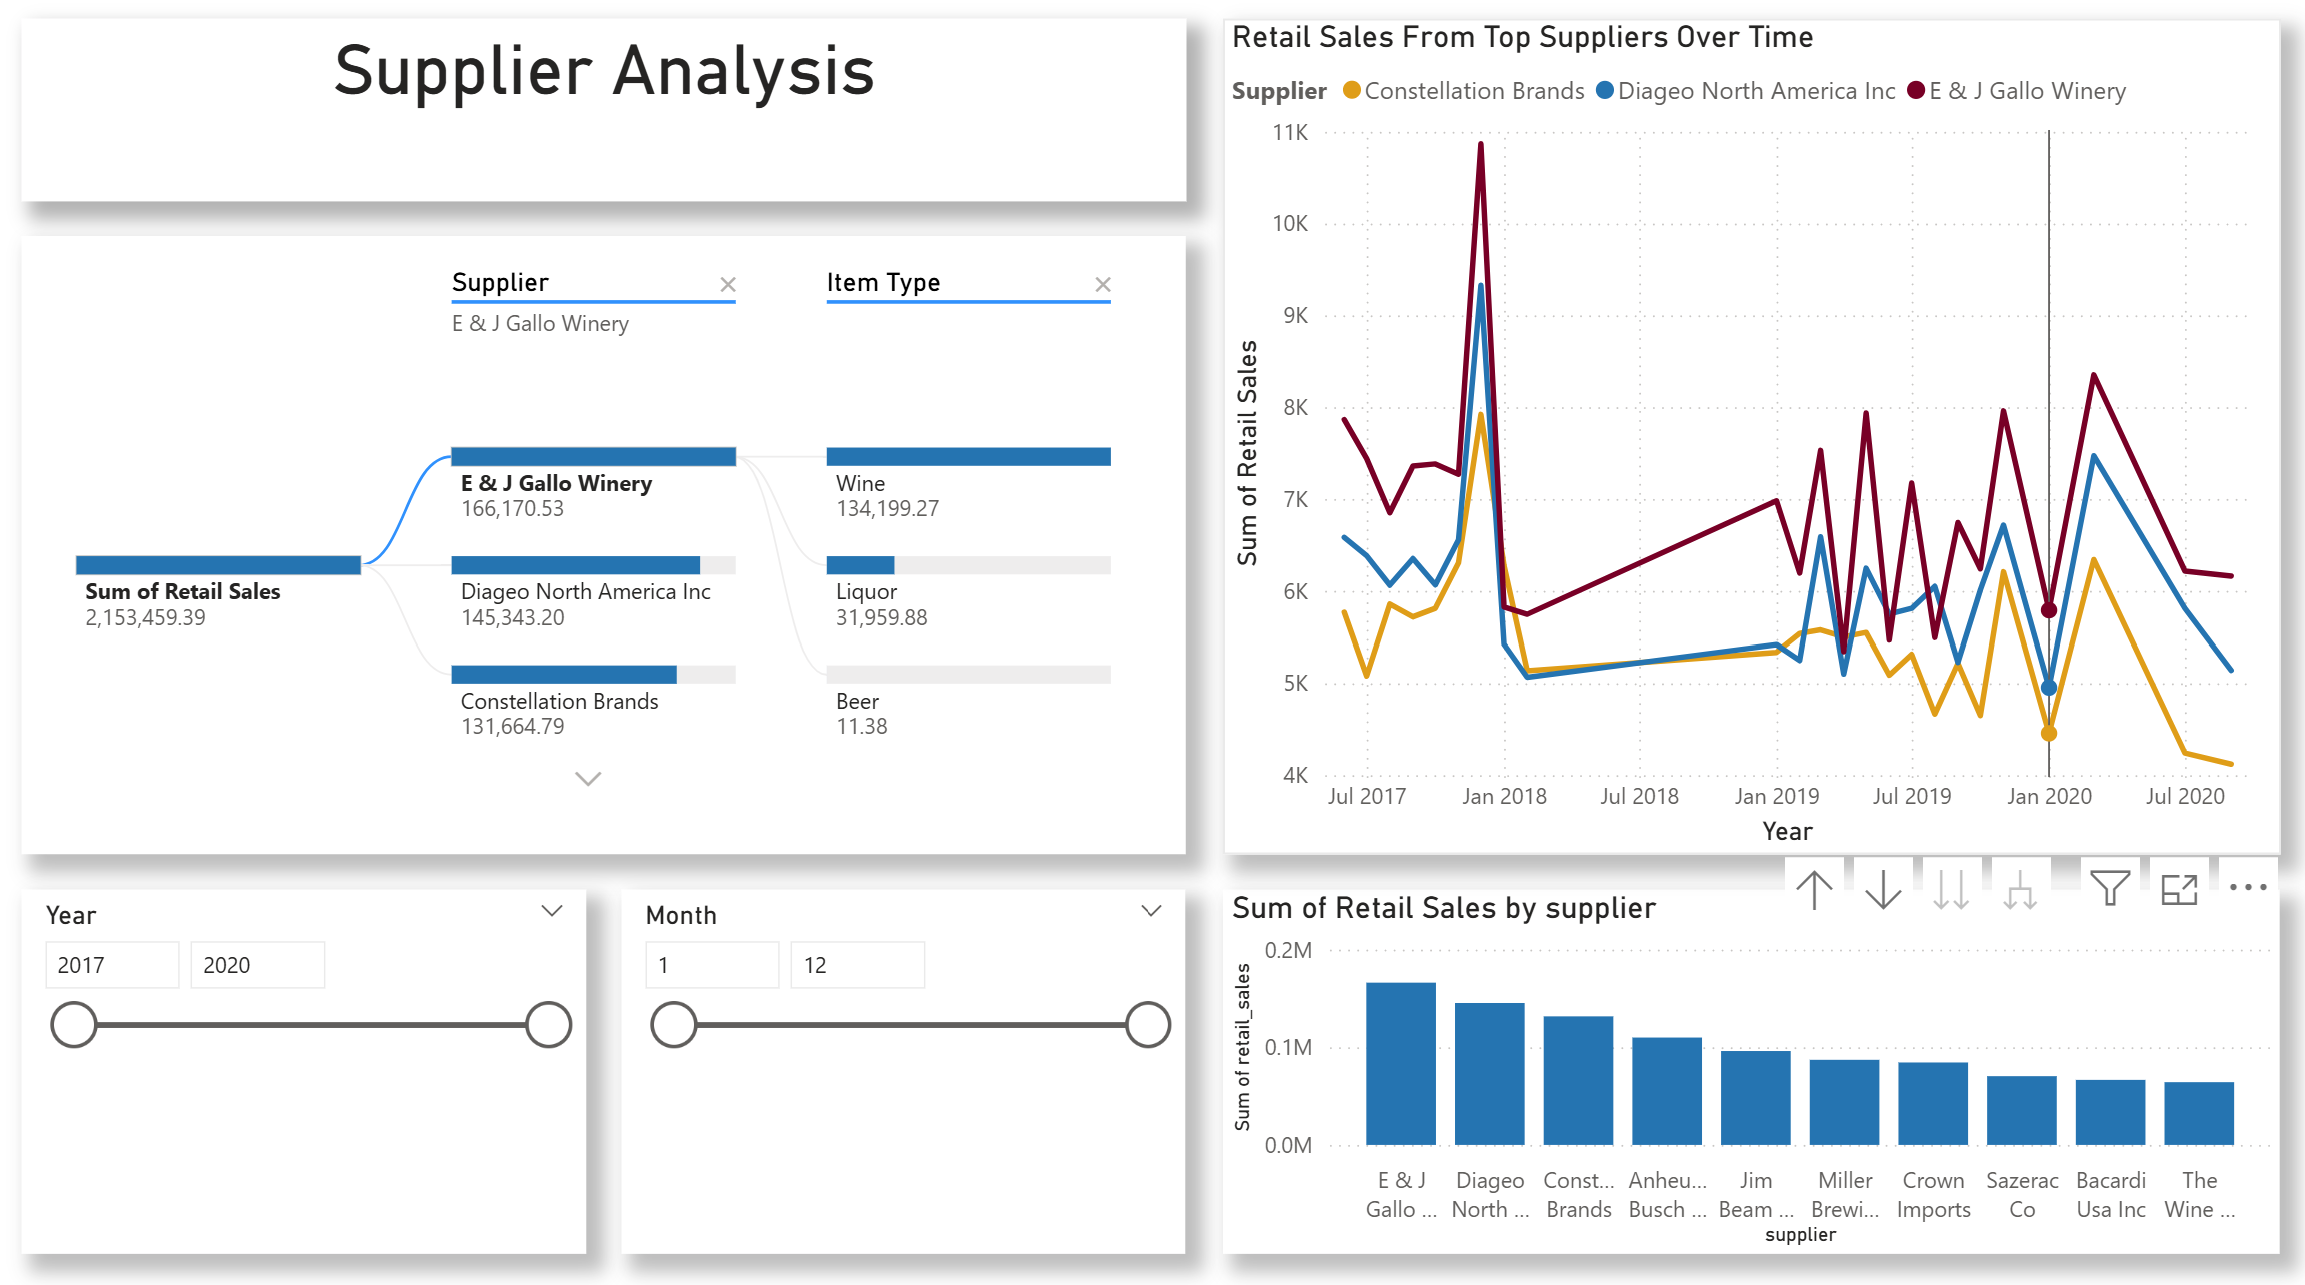

Layout of this report page (visuals, bound fields, positions):
{"tool":"powerbi","page":{"name":"Supplier Analysis","canvas":[1280,720],"ordinal":2},"visuals":[{"type":"textbox","box":[20.2,20.2,640,100.2],"z":0},{"type":"decompositionTreeVisual","fields":{"ExplainBy":["cleaned_alcohol_sales.supplier","cleaned_alcohol_sales.item_type"],"Analyze":["Sum(cleaned_alcohol_sales.retail_sales)"]},"box":[20.6,140,639.5,338.9],"z":1},{"type":"slicer","fields":{"Values":["cleaned_alcohol_sales.year"]},"box":[20.6,498,310.1,200],"z":4},{"type":"slicer","fields":{"Values":["cleaned_alcohol_sales.month"]},"box":[349.9,498,310.1,200],"z":5},{"type":"columnChart","title":"Sum of Retail Sales by supplier","fields":{"Category":["cleaned_alcohol_sales.supplier"],"Y":["Sum(cleaned_alcohol_sales.retail_sales)"]},"box":[681,498,580,200],"z":6},{"type":"lineChart","title":"Retail Sales From Top Suppliers Over Time","fields":{"Series":["cleaned_alcohol_sales.supplier"],"Y":["Sum(cleaned_alcohol_sales.retail_sales)"],"Category":["cleaned_alcohol_sales.date.Variation.Date Hierarchy.Year","cleaned_alcohol_sales.date.Variation.Date Hierarchy.Quarter","cleaned_alcohol_sales.date.Variation.Date Hierarchy.Month","cleaned_alcohol_sales.date.Variation.Date Hierarchy.Day"]},"box":[680.6,20.6,580.4,458.3],"z":7}]}

Visuals, with their boxes in screenshot pixels (x1, y1, x2, y2), scaled from the page's 1280x720 canvas onto the 2305x1285 screenshot:
textbox: x1=36 y1=36 x2=1189 y2=215
decompositionTreeVisual - cleaned_alcohol_sales.supplier x cleaned_alcohol_sales.item_type: x1=37 y1=250 x2=1189 y2=855
slicer - cleaned_alcohol_sales.year: x1=37 y1=889 x2=596 y2=1246
slicer - cleaned_alcohol_sales.month: x1=630 y1=889 x2=1189 y2=1246
"Sum of Retail Sales by supplier" columnChart: x1=1226 y1=889 x2=2271 y2=1246
"Retail Sales From Top Suppliers Over Time" lineChart: x1=1226 y1=37 x2=2271 y2=855
